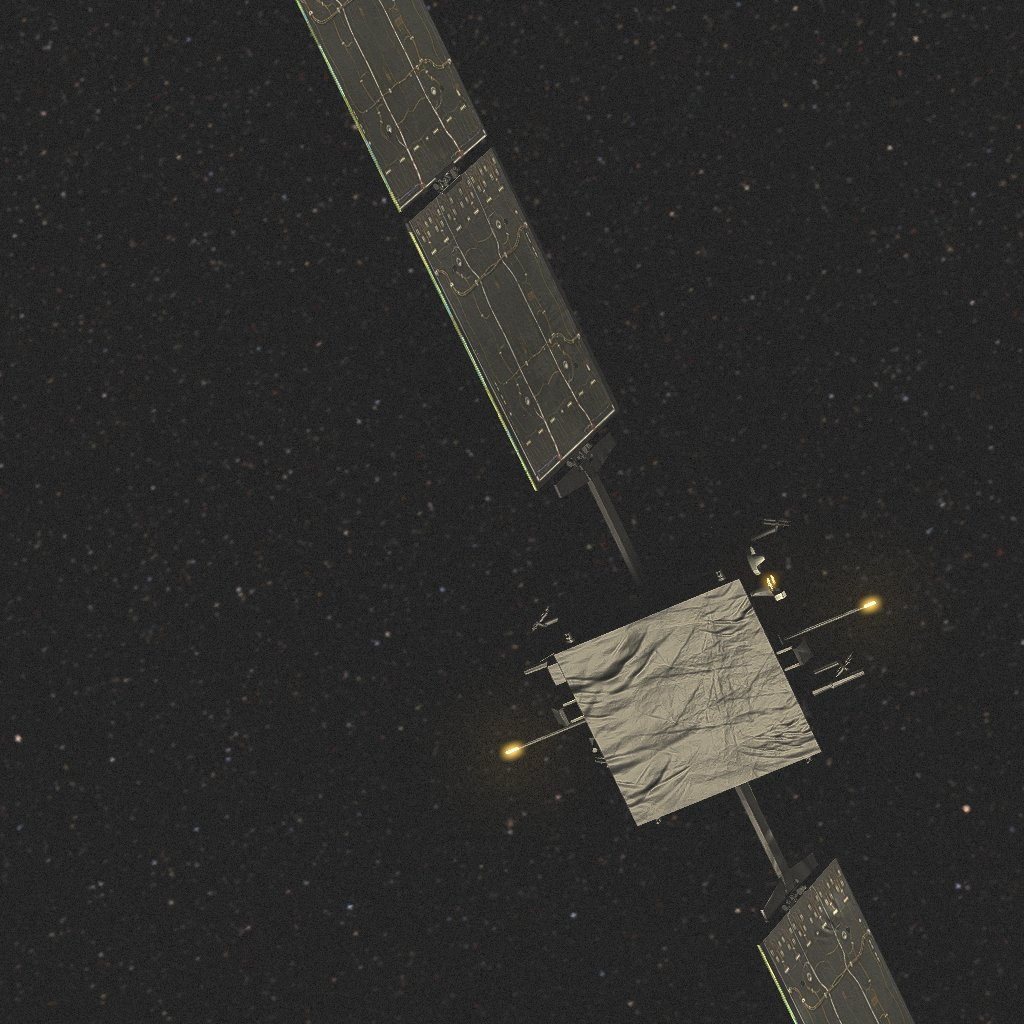smart_1: (296, 0, 915, 1024)
